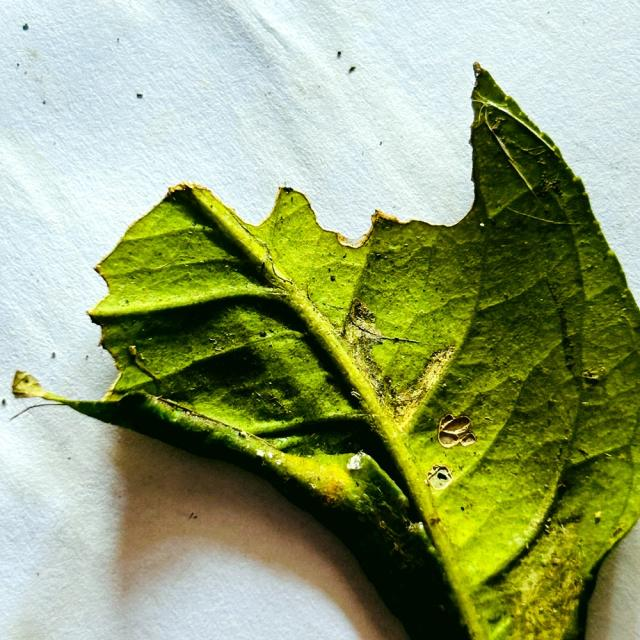Deficiency Leaf: (131, 103, 473, 239), (0, 153, 141, 419)
Lemon: (12, 73, 639, 639), (67, 63, 639, 639)
